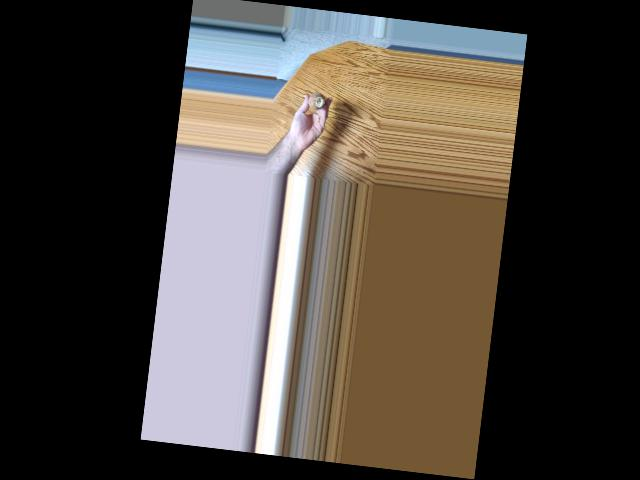sweet_potato: (305, 90, 325, 108)
